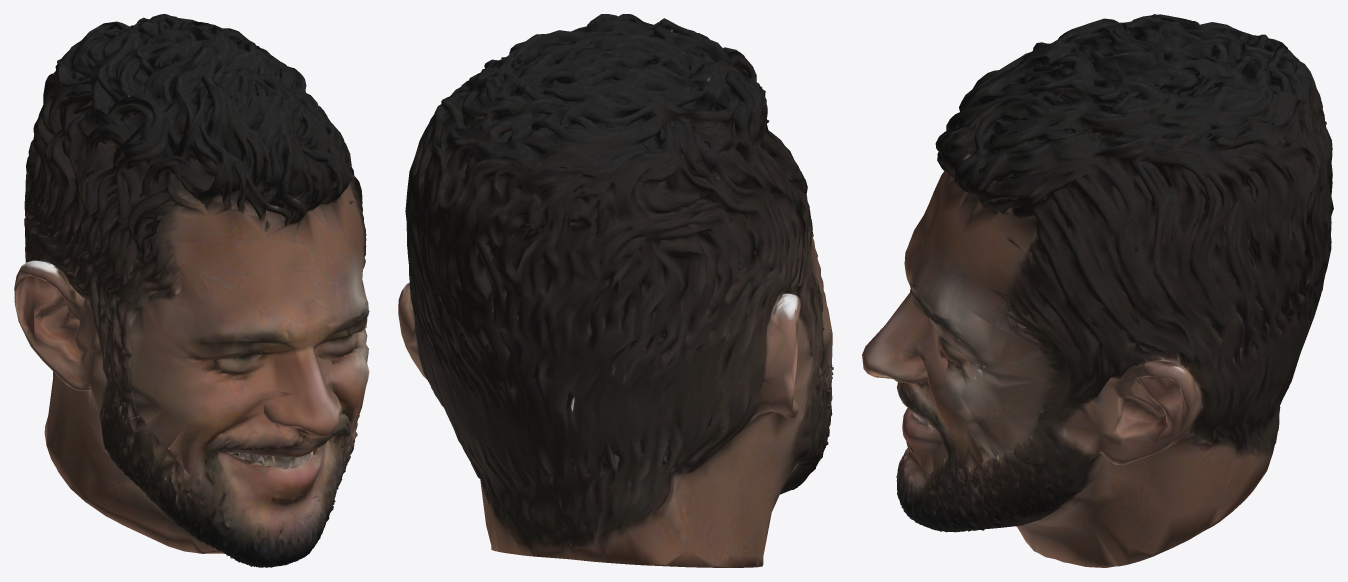
Rendered from head_stephen.glb.
3 views of the same model, side by side, from view 1: azimuth 30°, elevation 25°; view 2: azimuth 150°, elevation 25°; view 3: azimuth 270°, elevation 25° (orthographic). The views are drawn at different scales.
Parts seen in each view (by area): view 1: Mesh_0; view 2: Mesh_0; view 3: Mesh_0.
Boxes of the visible parts, left/top/right/bottom form: Mesh_0: left=14, top=14, right=369, bottom=567; Mesh_0: left=398, top=14, right=833, bottom=567; Mesh_0: left=862, top=14, right=1333, bottom=567.
Bounding box in the file's own units: 0.7596 × 1.05 × 0.8845.
Materials: 1 (1 with a texture image).
